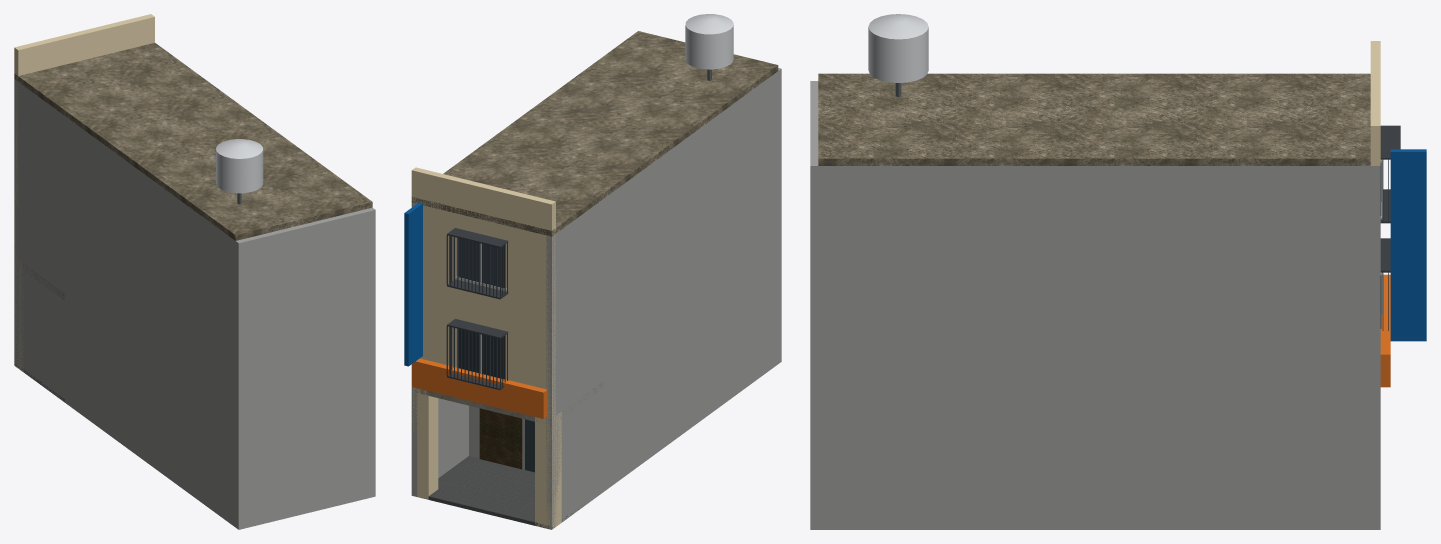
The model's file is street-house-d.glb.
3 views of the same model, side by side, from view 1: azimuth 30°, elevation 25°; view 2: azimuth 150°, elevation 25°; view 3: azimuth 270°, elevation 25° (orthographic). The views are drawn at different scales.
Parts seen in each view (by area): view 1: StreetHouseD; view 2: StreetHouseD; view 3: StreetHouseD.
Boxes of the visible parts, x1,y1,x2,y2 form: StreetHouseD: [14, 14, 375, 529]; StreetHouseD: [404, 14, 781, 529]; StreetHouseD: [810, 14, 1426, 529].
Size of the model in its own units: 5 by 12.3 by 15.35.
Materials: 15 (4 with a texture image).
